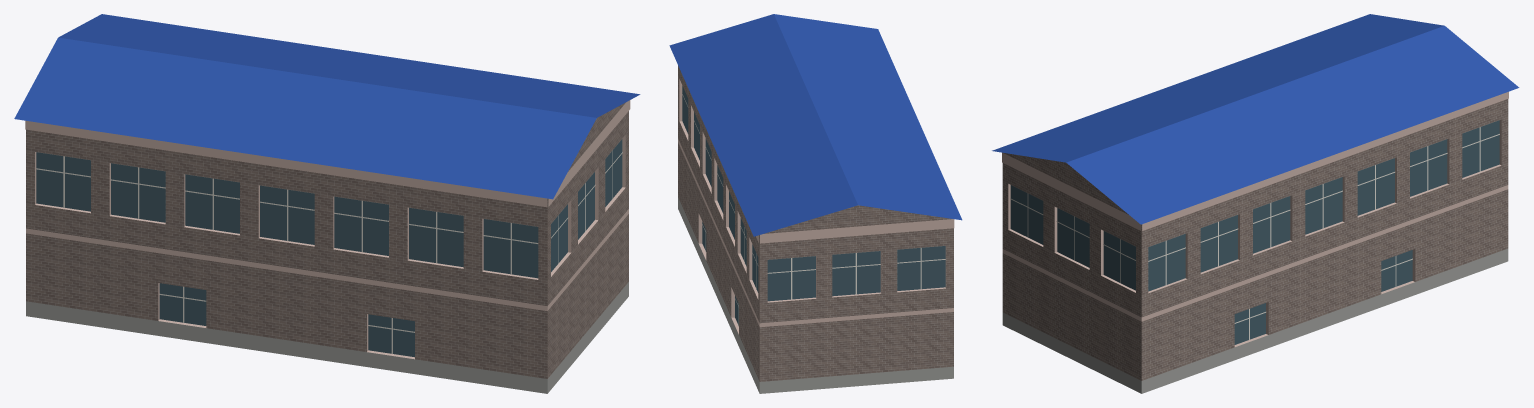
3 renders of one model, left to right at view 1: azimuth 30°, elevation 25°; view 2: azimuth 150°, elevation 25°; view 3: azimuth 270°, elevation 25°, orthographic. The views are drawn at different scales.
Visible parts, largest first — view 1: hall6__roof-metal, hall6__brick, hall6__wall-plaster, hall6__glass, hall6__trim-concrete, hall6__base-stone, hall6__frame; view 2: hall6__roof-metal, hall6__wall-plaster, hall6__brick, hall6__glass, hall6__trim-concrete, hall6__base-stone, hall6__frame; view 3: hall6__roof-metal, hall6__wall-plaster, hall6__brick, hall6__glass, hall6__trim-concrete, hall6__base-stone, hall6__frame.
Boxes of the visible parts, box(x1,y1,x2,y2) form: hall6__roof-metal: box(14, 14, 640, 199); hall6__brick: box(26, 214, 628, 378); hall6__wall-plaster: box(26, 102, 628, 306); hall6__glass: box(36, 139, 622, 357); hall6__trim-concrete: box(25, 100, 630, 359); hall6__base-stone: box(26, 282, 628, 393); hall6__frame: box(36, 151, 622, 353); hall6__roof-metal: box(669, 14, 962, 236); hall6__wall-plaster: box(678, 65, 953, 323); hall6__brick: box(678, 142, 953, 381); hall6__glass: box(682, 86, 945, 325); hall6__trim-concrete: box(678, 79, 954, 334); hall6__base-stone: box(678, 197, 953, 393); hall6__frame: box(682, 93, 945, 325); hall6__roof-metal: box(992, 14, 1519, 224); hall6__wall-plaster: box(1002, 99, 1508, 317); hall6__brick: box(1002, 189, 1508, 380); hall6__glass: box(1010, 120, 1499, 344); hall6__trim-concrete: box(1002, 91, 1508, 346); hall6__base-stone: box(1002, 248, 1508, 393); hall6__frame: box(1010, 127, 1499, 339).
Bounding box in the file's own units: 31.3 × 13.8 × 33.14.
Materials: 7 (2 with a texture image).
